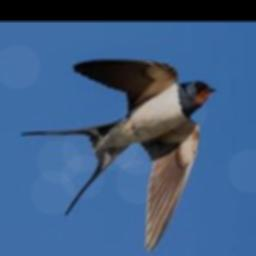Swallow: (21, 58, 216, 250)
